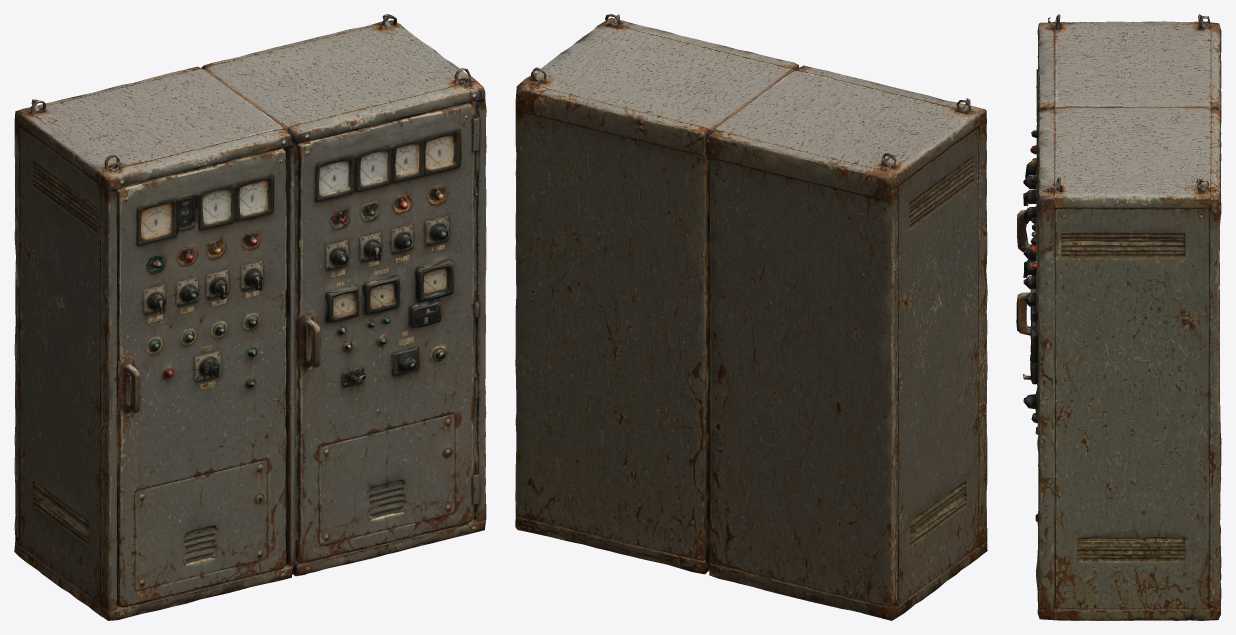
Rendered from BK_ControlCabinet.fbx.
3 views of the same model, side by side, from view 1: azimuth 30°, elevation 25°; view 2: azimuth 150°, elevation 25°; view 3: azimuth 270°, elevation 25° (orthographic). The views are drawn at different scales.
Parts seen in each view (by area): view 1: texture_mapping; view 2: texture_mapping; view 3: texture_mapping.
Part boxes in pixels (x1,y1,x2,y2): texture_mapping: (14, 14, 486, 620); texture_mapping: (515, 14, 987, 620); texture_mapping: (1016, 14, 1221, 620).
Size of the model in its own units: 0.8652 by 0.4252 by 1.
1 material, 1 textured.
